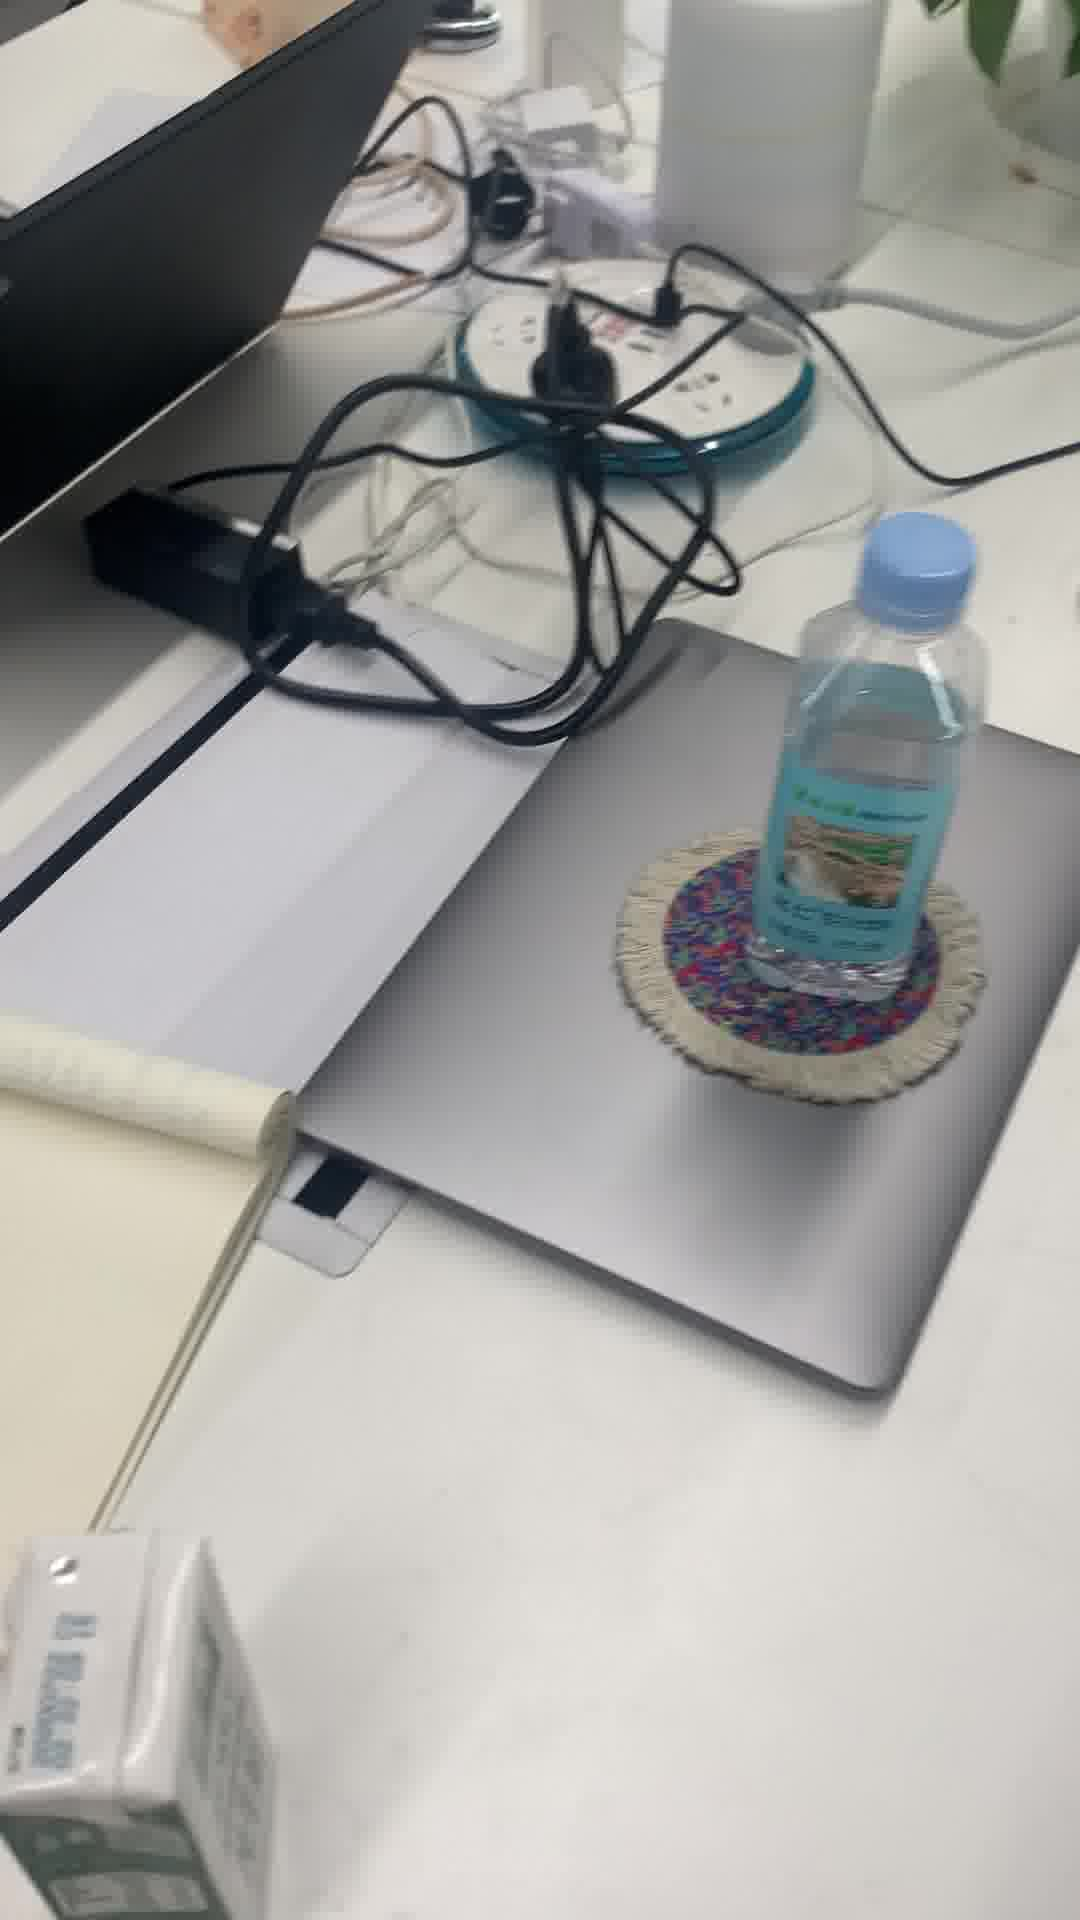水瓶: (736, 513, 997, 1015)
